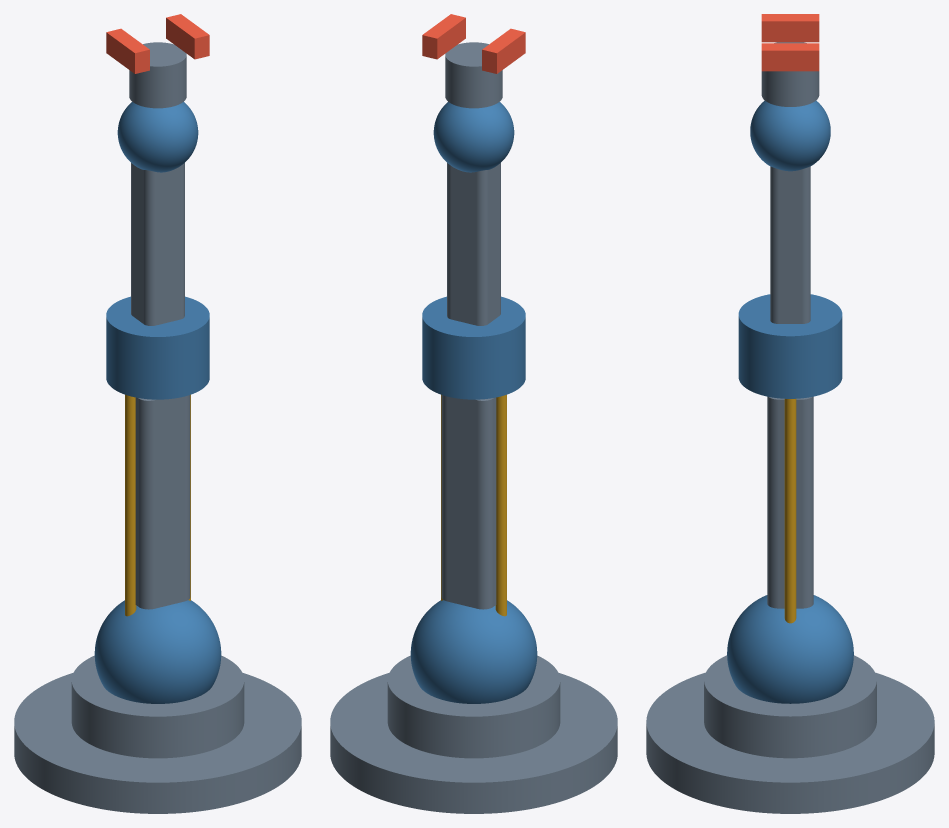
File: robotic_arm.glb
The picture shows the model from 3 angles, left to right: view 1: azimuth 30°, elevation 25°; view 2: azimuth 150°, elevation 25°; view 3: azimuth 270°, elevation 25°; orthographic projection.
Bounding box in the file's own units: 0.1 × 0.276 × 0.1.
